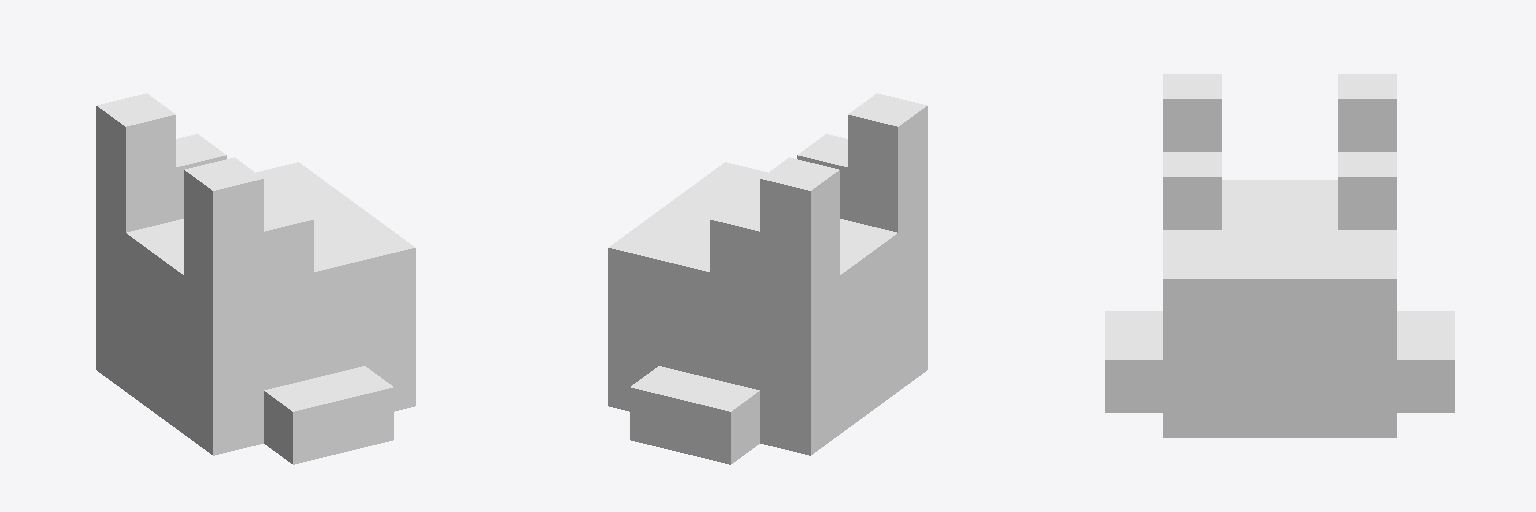
Rendered from froggy.obj.
3 views of the same model, side by side, from view 1: azimuth 30°, elevation 25°; view 2: azimuth 150°, elevation 25°; view 3: azimuth 270°, elevation 25° (orthographic).
Parts seen in each view (by area): view 1: object 1; view 2: object 1; view 3: object 1.
Boxes of the visible parts, <box> form: object 1: <box>96,93,415,464</box>; object 1: <box>608,93,927,464</box>; object 1: <box>1105,74,1454,437</box>.
Bounding box in the file's own units: 0.4 × 0.5 × 0.6.